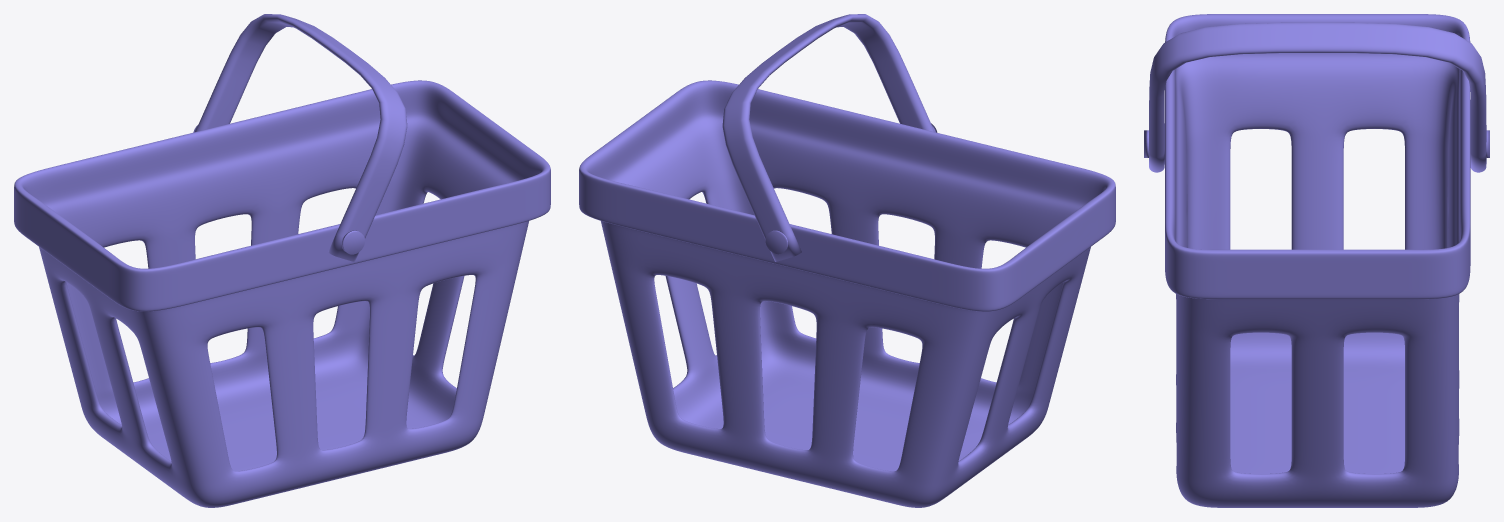
The model's file is Shopping Cart.fbx.
3 views of the same model, side by side, from view 1: azimuth 30°, elevation 25°; view 2: azimuth 150°, elevation 25°; view 3: azimuth 270°, elevation 25° (orthographic). The views are drawn at different scales.
Visible parts, largest first — view 1: Cube, Plane; view 2: Cube, Plane; view 3: Cube, Plane.
Boxes of the visible parts, x1,y1,x2,y2 form: Cube: (14, 80, 550, 507); Plane: (195, 14, 407, 261); Cube: (579, 80, 1115, 507); Plane: (722, 14, 934, 261); Cube: (1165, 14, 1470, 507); Plane: (1149, 22, 1486, 172).
Bounding box in the file's own units: 400 × 344 × 244.
